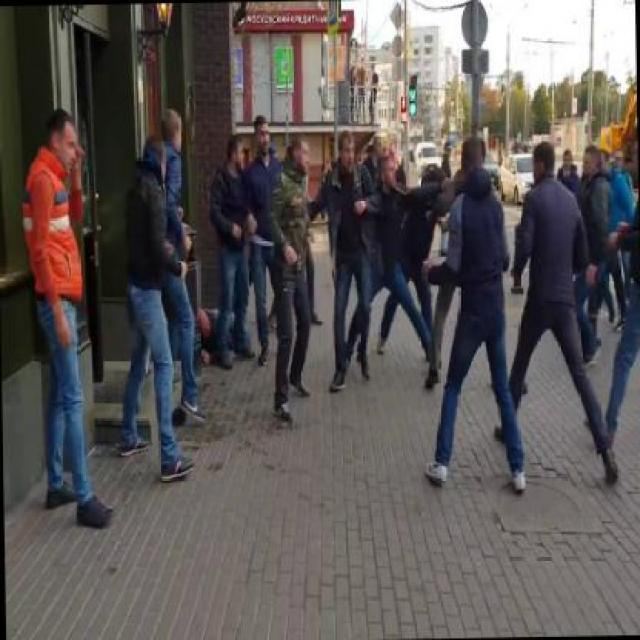fight: (369, 138, 469, 348)
non-fight: (20, 107, 116, 530), (508, 146, 616, 482), (118, 107, 205, 478), (208, 112, 283, 365), (311, 126, 377, 385), (266, 127, 316, 420)
